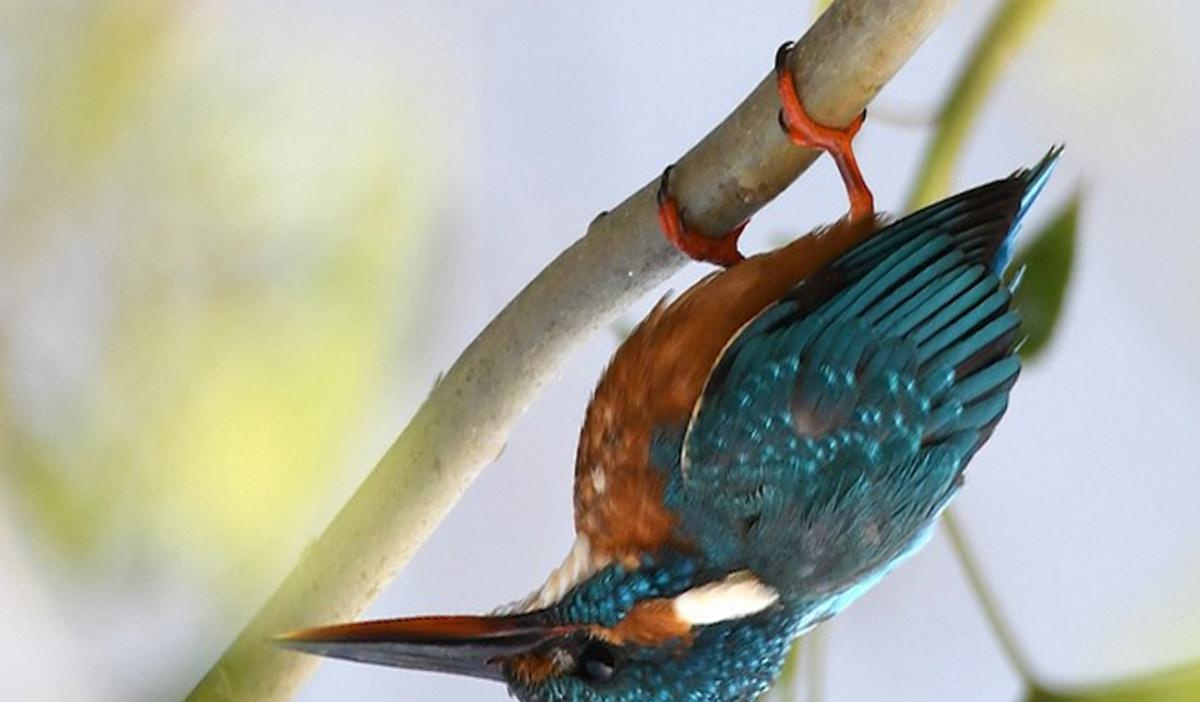kingfisher: (247, 88, 1090, 695)
